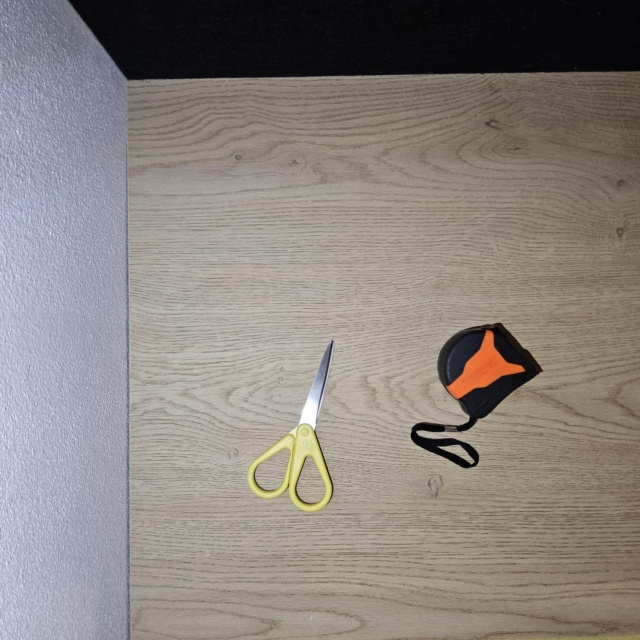scissor: (247, 339, 336, 513)
